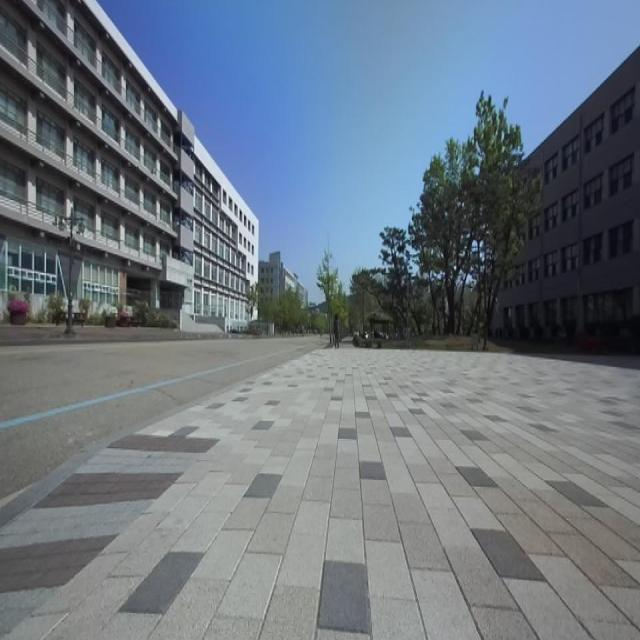sidewalk: (0, 345, 640, 640)
